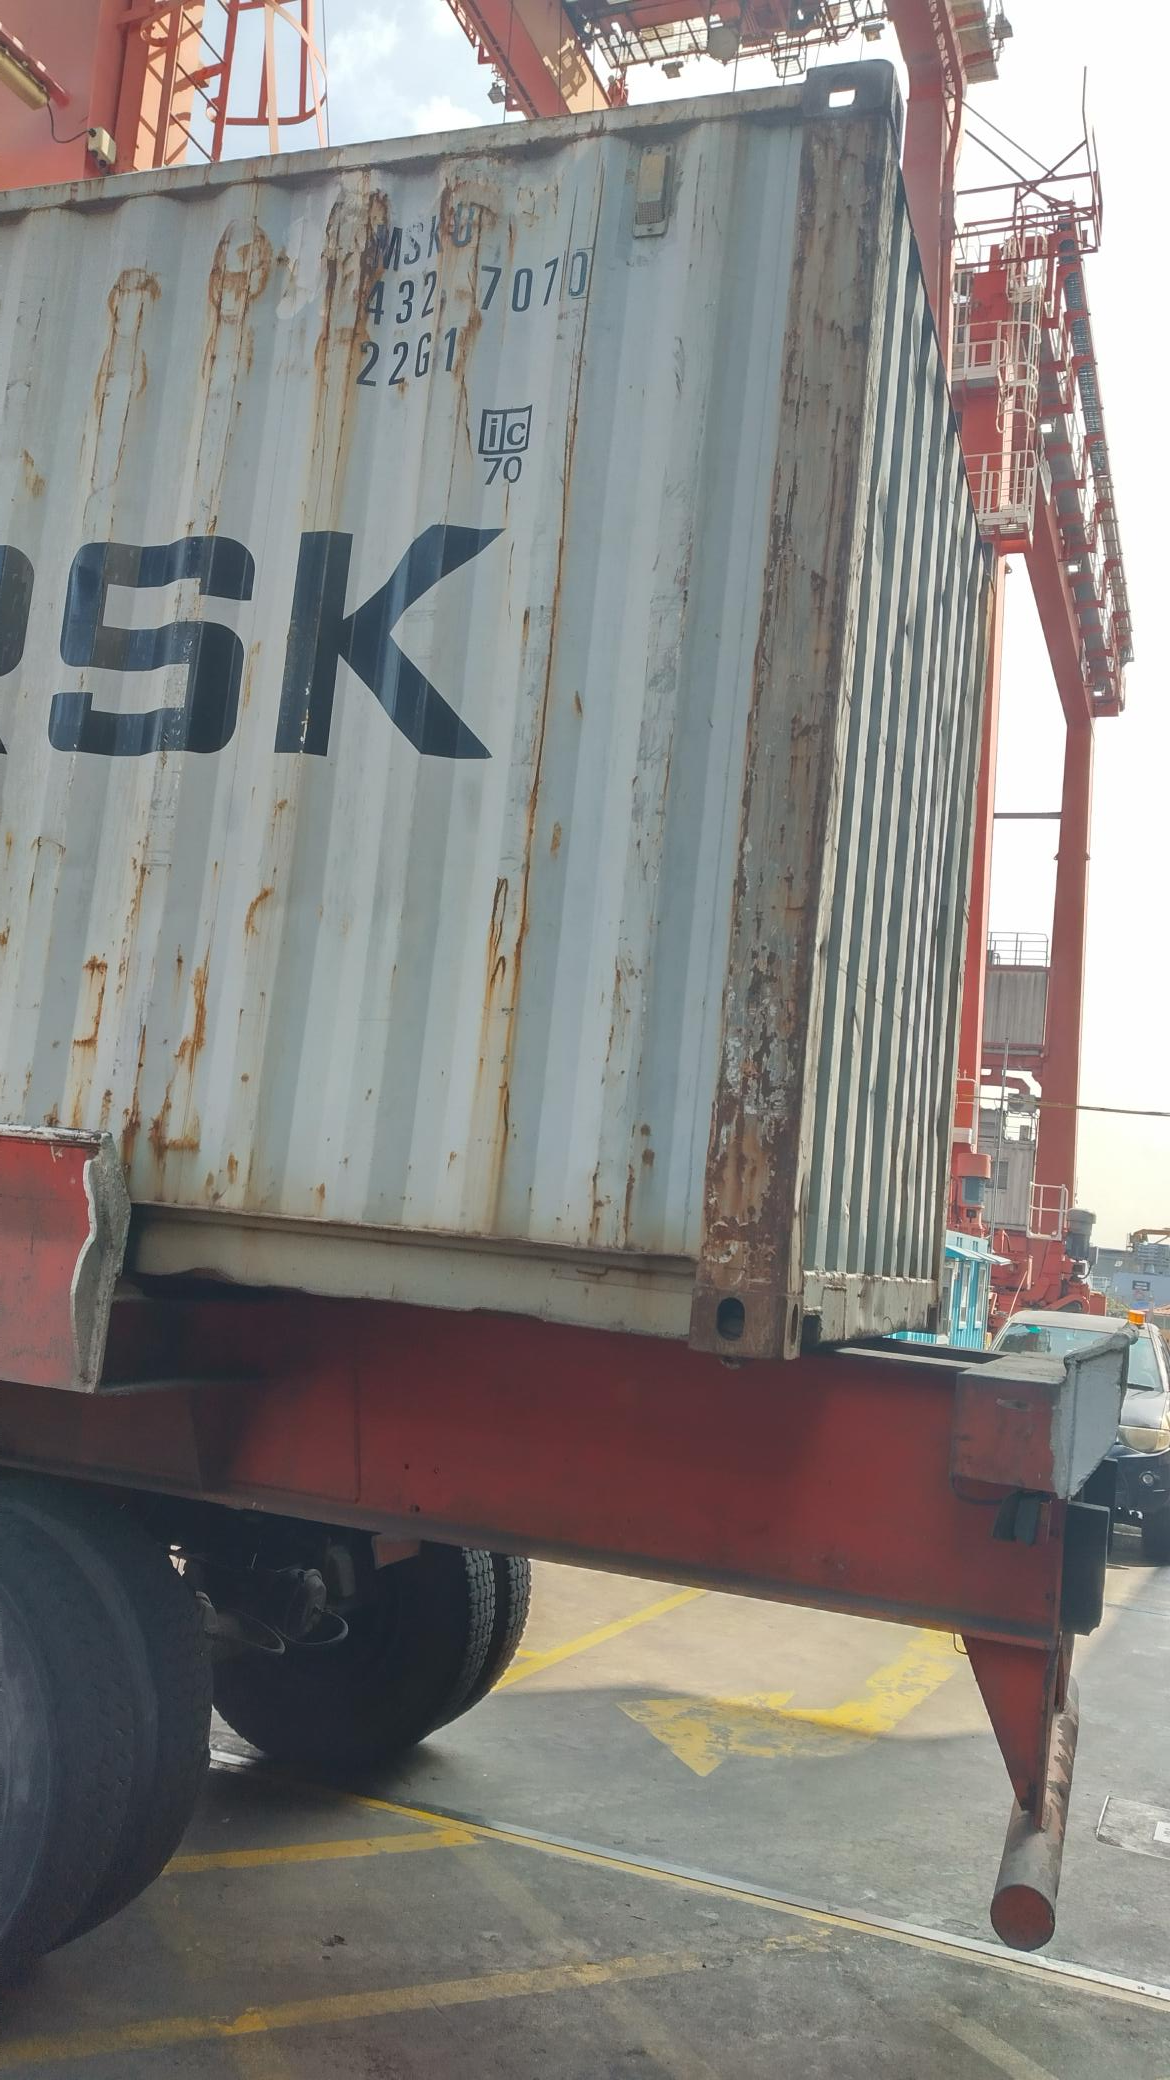rust: (326, 187, 426, 379), (487, 874, 566, 1084), (434, 174, 514, 341), (211, 224, 274, 364), (183, 956, 224, 1117), (84, 954, 109, 1076)
